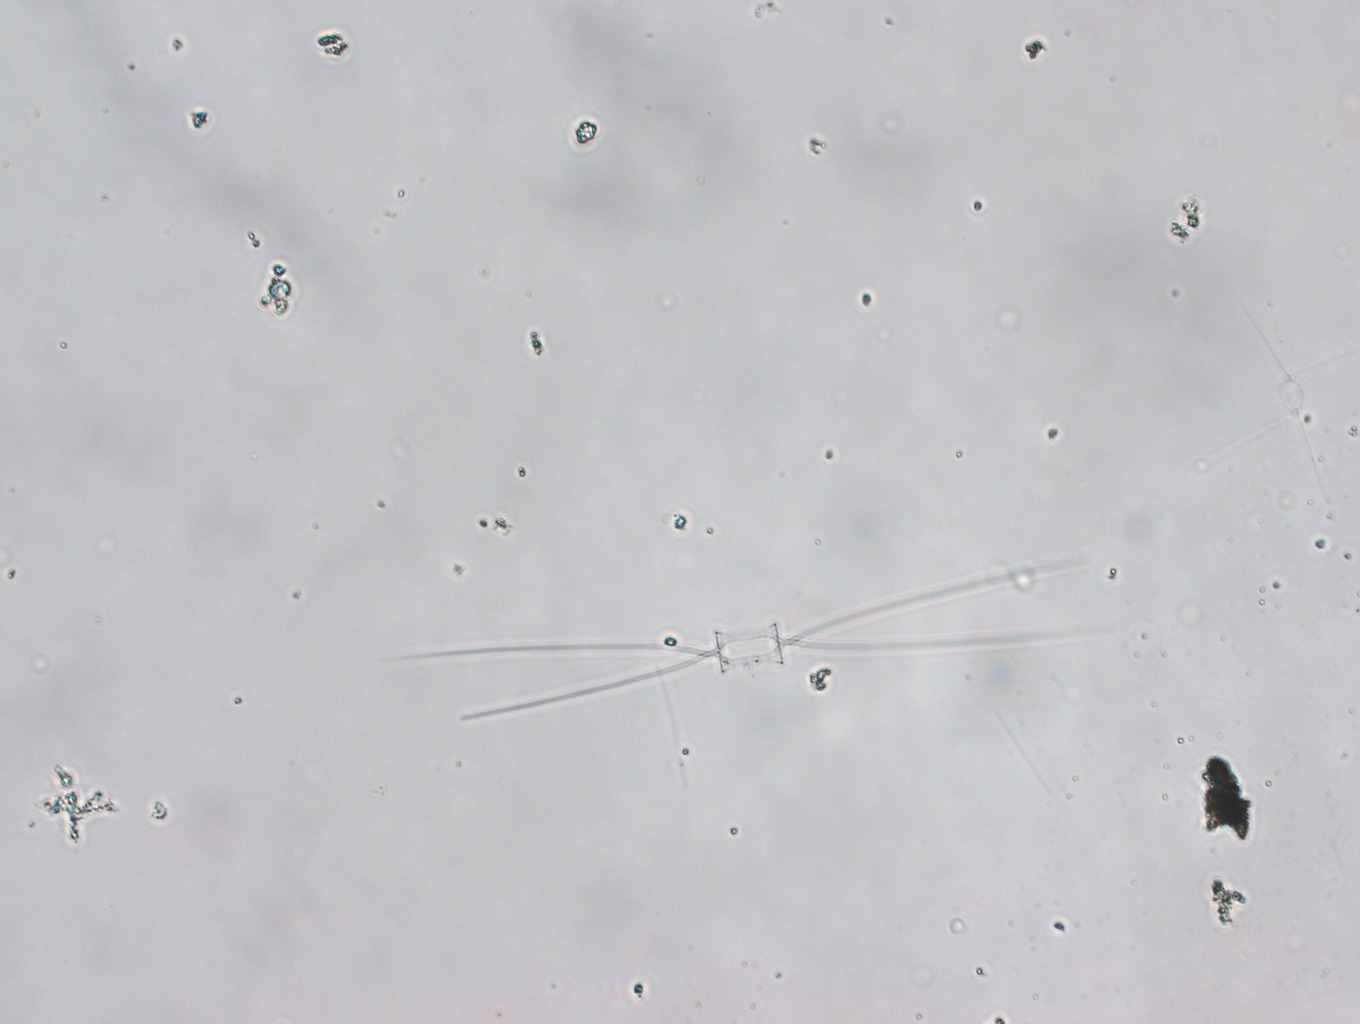chaetoceros: (381, 558, 1115, 722)
